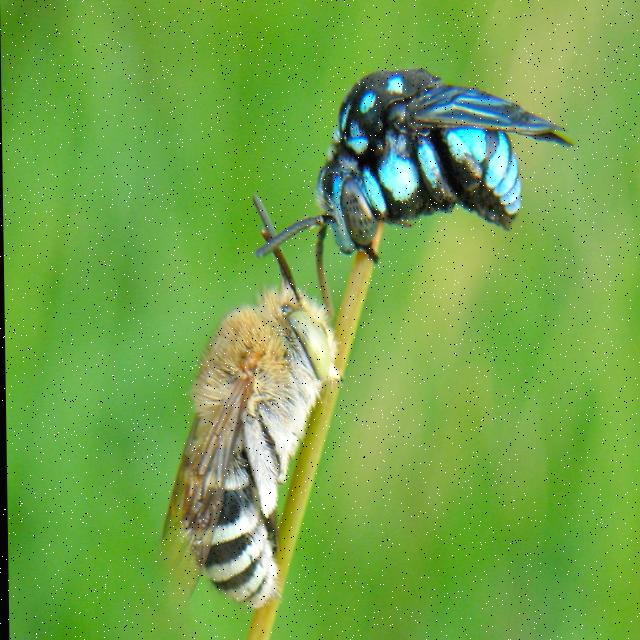Thyreus: (150, 185, 343, 631), (246, 63, 572, 270)
